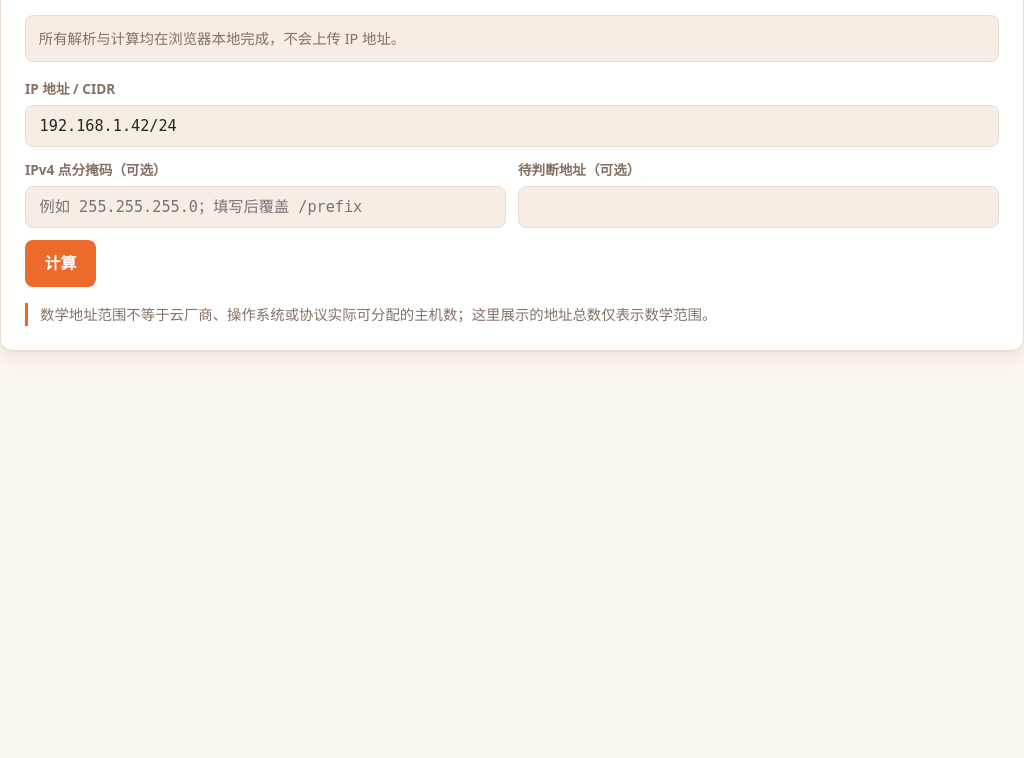
Test case: uses a safe public default and calculates a complete IPv4 report without fetching
Expected: the field labelled "IP 地址 / CIDR" holds "192.168.1.42/24", [25,105,999,147]
Expected: the field labelled "IPv4 点分掩码（可选）" is empty, [25,186,506,228]
Click the button "计算": (60, 264) [25,240,96,287]
(page scrolled)
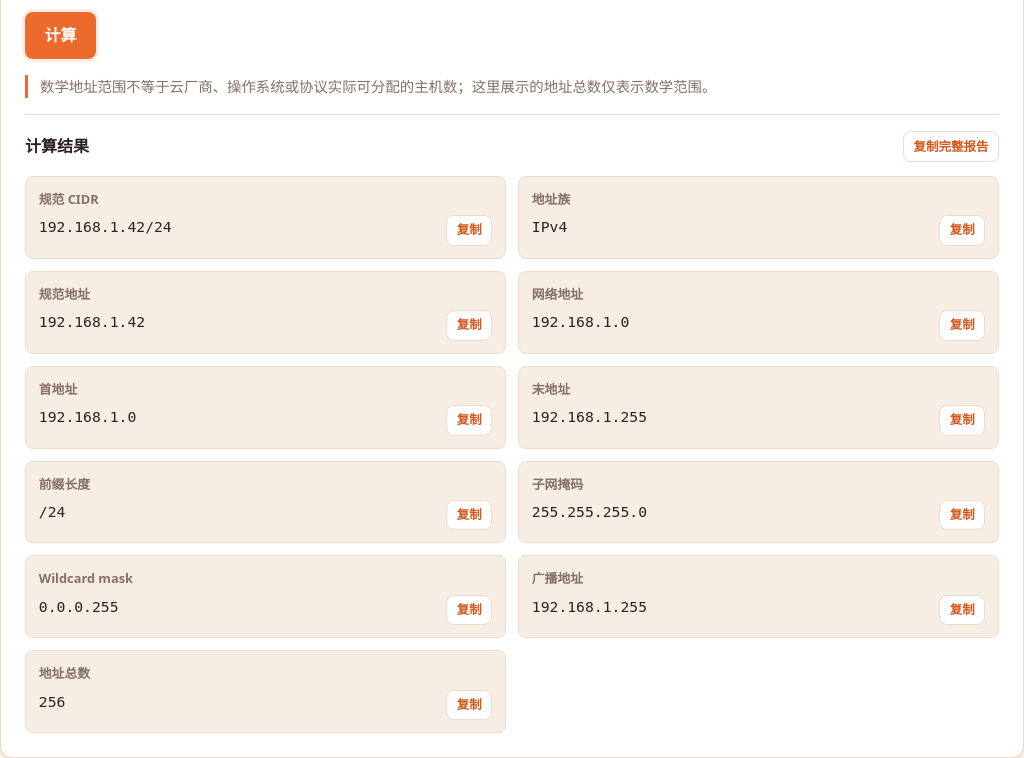
Result: the text named "规范 CIDR" reads "192.168.1.42/24" at [39,218,172,235]
Result: the text named "网络地址" reads "192.168.1.0" at [532,313,629,330]
Result: the text named "首地址" reads "192.168.1.0" at [39,408,136,425]
